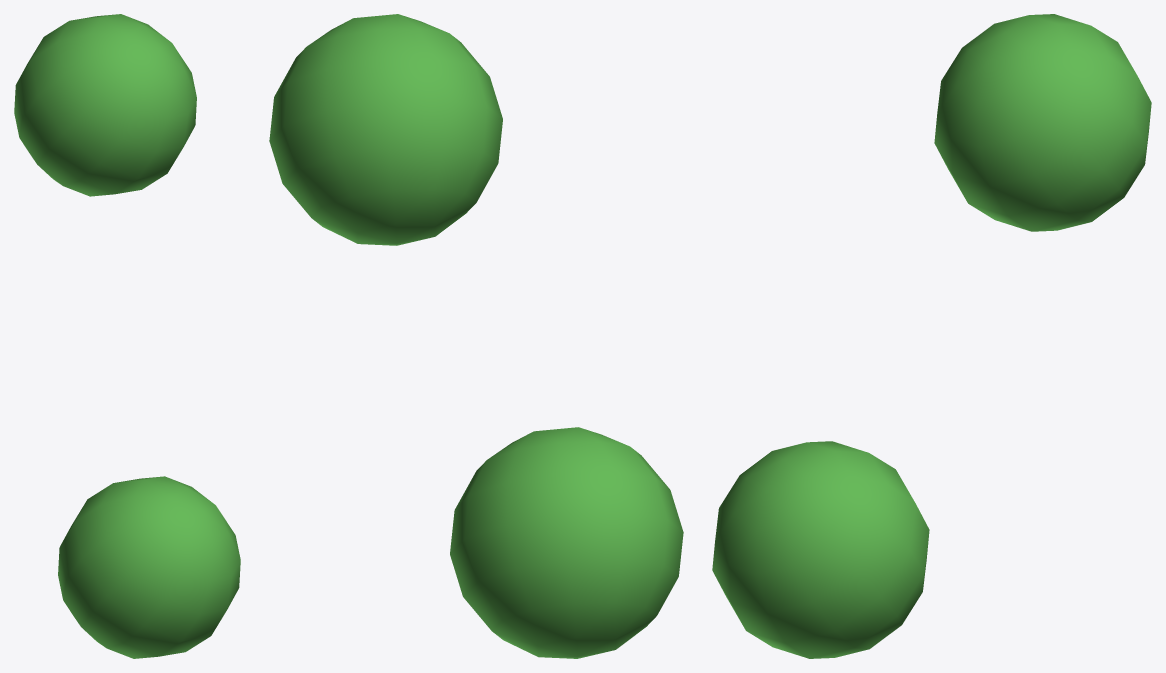
File: linfatico-lateral-axillary-nodes-l.glb
3 renders of one model, left to right at view 1: azimuth 30°, elevation 25°; view 2: azimuth 150°, elevation 25°; view 3: azimuth 270°, elevation 25°, orthographic. The views are drawn at different scales.
Parts seen in each view (by area): view 1: Lateral axillary nodes.l; view 2: Lateral axillary nodes.l; view 3: Lateral axillary nodes.l.
Boxes of the visible parts, bbox=[...] form: Lateral axillary nodes.l: bbox=[14, 14, 240, 658]; Lateral axillary nodes.l: bbox=[269, 14, 683, 658]; Lateral axillary nodes.l: bbox=[712, 14, 1151, 658].
Bounding box in the file's own units: 0.00339 × 0.0085 × 0.00517.
